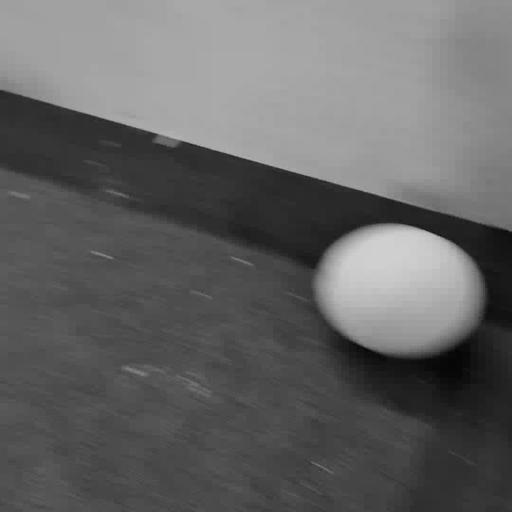fuel: (314, 224, 485, 358)
